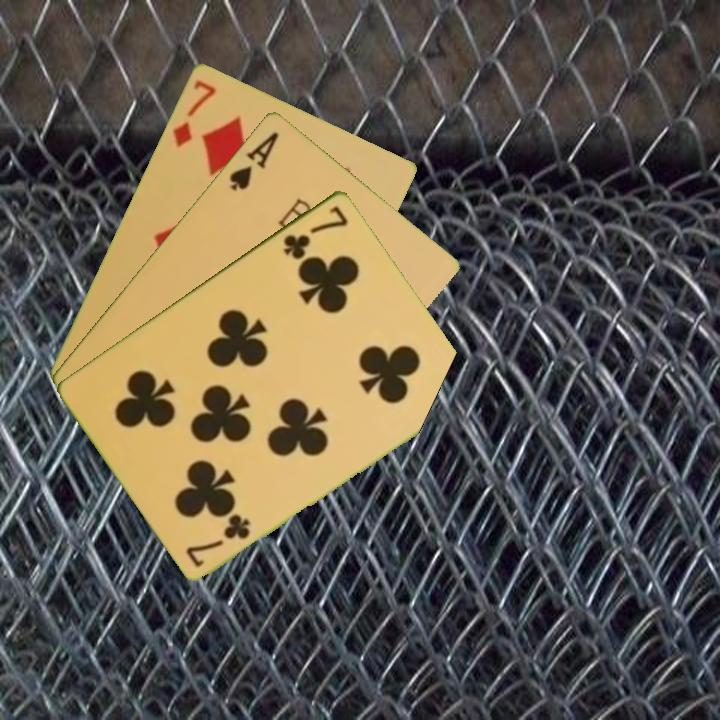7c: (279, 201, 352, 262), (183, 511, 254, 570)
7d: (168, 76, 219, 149)
As: (225, 128, 282, 194)
